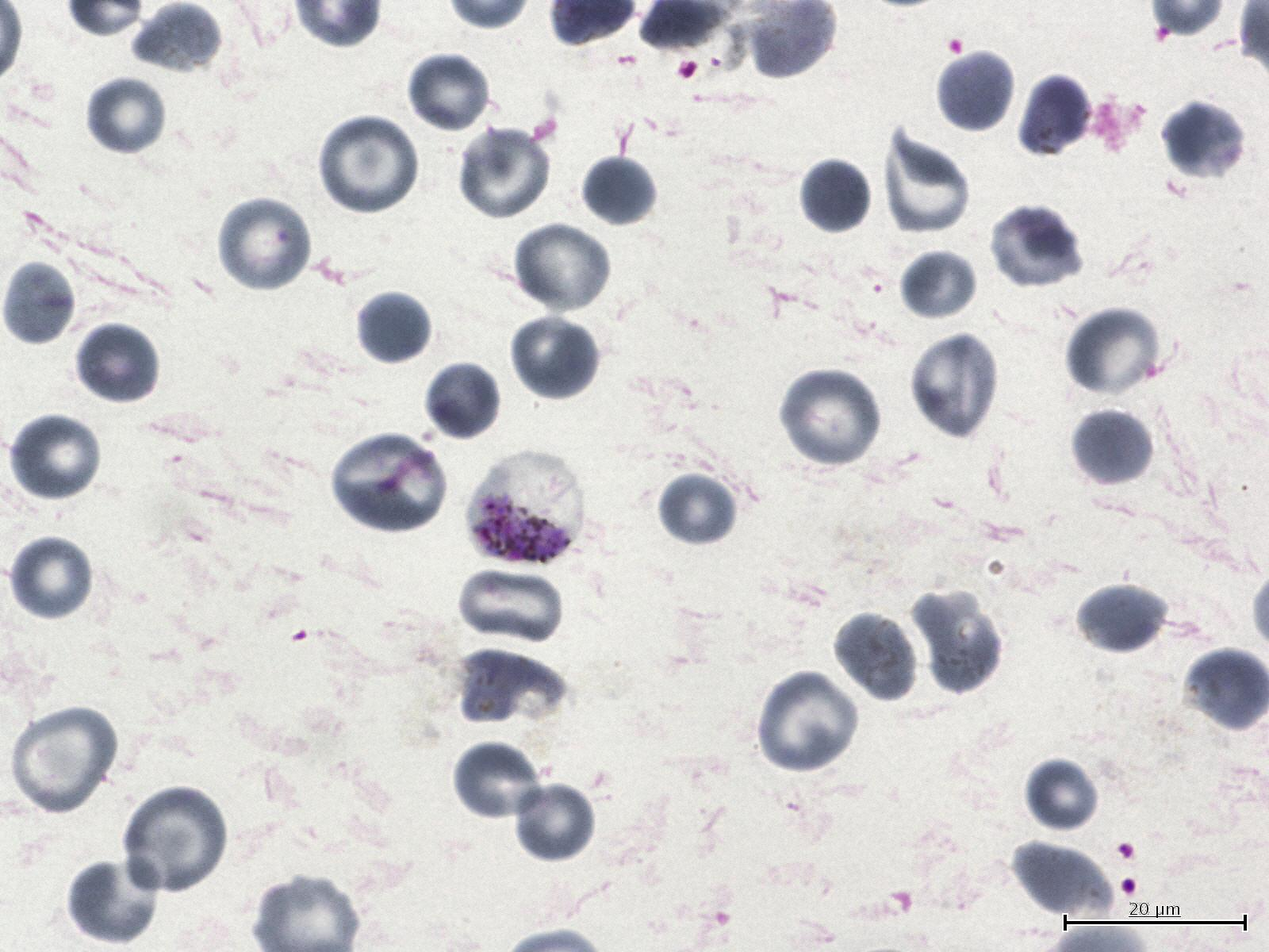Infected: (466, 451, 587, 563)
Uninfected: (6, 709, 113, 818), (121, 789, 226, 897), (332, 437, 447, 535), (780, 367, 881, 470), (318, 116, 420, 217), (755, 673, 857, 774), (910, 334, 1000, 440), (910, 589, 1001, 693), (217, 195, 312, 294), (880, 134, 972, 236), (458, 124, 552, 222), (513, 221, 612, 313), (1067, 305, 1161, 398), (457, 567, 565, 647), (9, 412, 103, 503), (831, 609, 921, 703), (1007, 840, 1113, 919), (987, 202, 1081, 291), (450, 649, 558, 726), (508, 312, 601, 401), (67, 858, 158, 946), (8, 533, 96, 622), (1160, 98, 1248, 183), (74, 321, 161, 406), (1068, 405, 1156, 489), (128, 0, 221, 77), (1074, 582, 1169, 656), (513, 780, 596, 864), (407, 51, 491, 133), (85, 74, 169, 156), (936, 48, 1016, 134), (1017, 72, 1095, 160), (0, 259, 76, 347), (423, 360, 502, 443), (1019, 754, 1099, 834), (455, 748, 542, 821), (656, 470, 738, 547), (353, 288, 432, 366), (898, 249, 979, 325), (798, 156, 873, 236), (579, 154, 658, 228)
